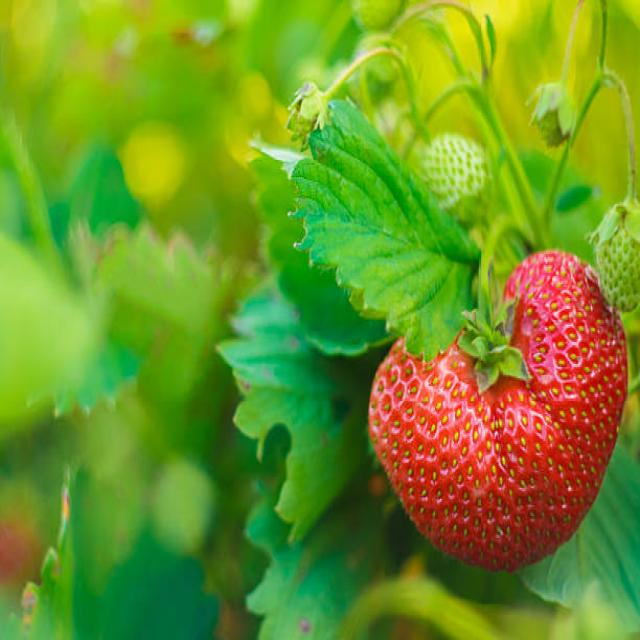Healthy Fruit: (368, 251, 628, 570)
